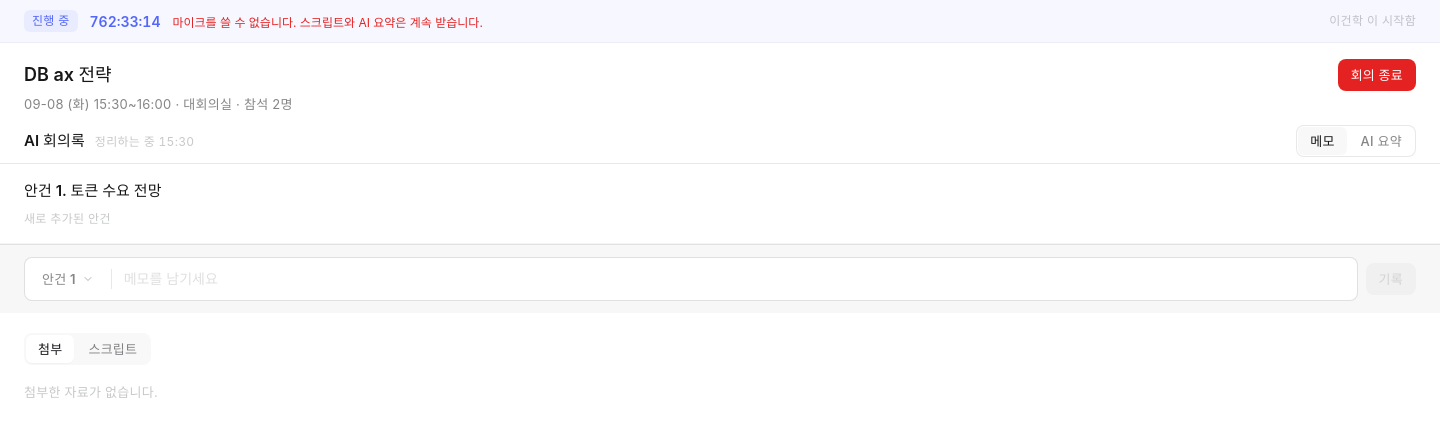
Test case: SCR-106 「진행 중」 — 회의 스트림 › 마이크를 거부해도 화면이 멈추지 않고 상태 줄로 알린다
Expected: the heading "DB ax 전략" is shown, [24,62,112,88]
Expected: the text "마이크를 쓸 수 없습니다. 스크립트와 AI 요약은 계속 받습니다." is shown, [172,12,483,30]
Click the tab "스크립트".
click(113, 348)  # box [76,334,149,362]
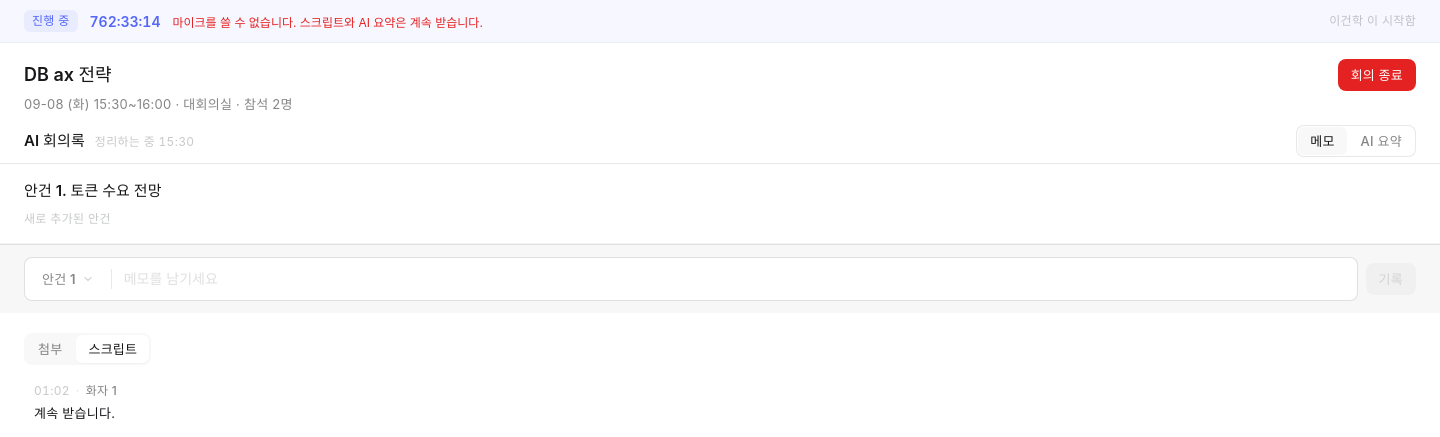
Now the text "계속 받습니다." is shown, box [34,404,115,420]
